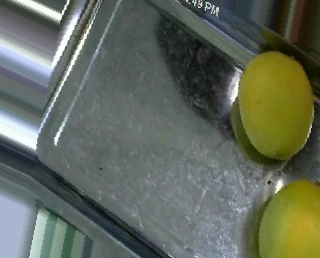Mango: (235, 48, 317, 168), (254, 177, 320, 257)
